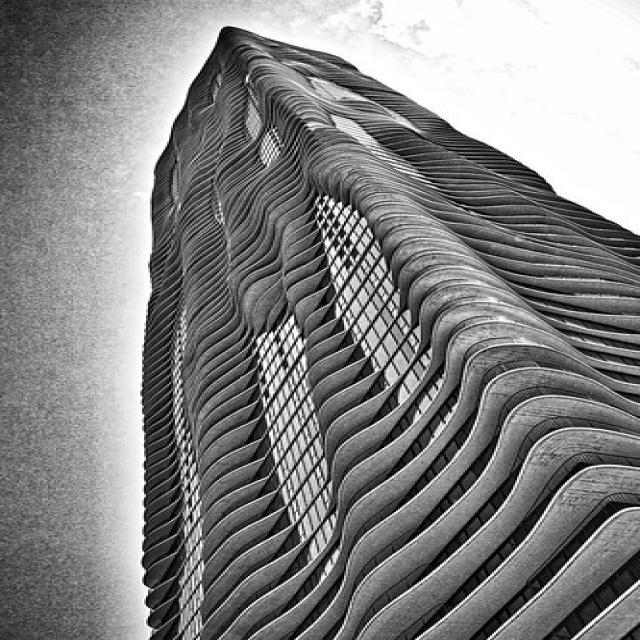Normal_building: (129, 19, 640, 640)
